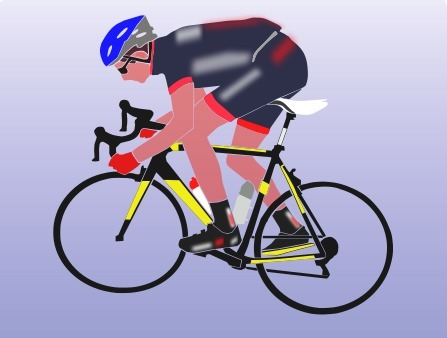bicycle: (40, 97, 394, 320)
person: (96, 12, 308, 252)
